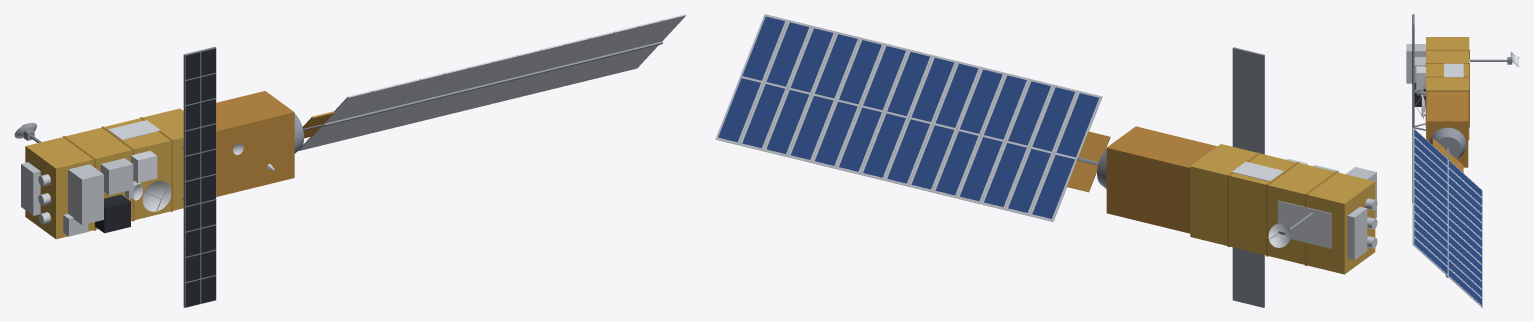
File: envisat.glb
3 views of the same model, side by side, from view 1: azimuth 30°, elevation 25°; view 2: azimuth 150°, elevation 25°; view 3: azimuth 270°, elevation 25° (orthographic). The views are drawn at different scales.
Parts seen in each view (by area): view 1: body, foil; view 2: solar-panel, foil, body; view 3: solar-panel, body, foil.
Part boxes in pixels (bbox=[...]): body: bbox=[14, 14, 686, 307]; foil: bbox=[21, 91, 334, 239]; solar-panel: bbox=[718, 16, 1099, 218]; foil: bbox=[1066, 126, 1375, 274]; body: bbox=[715, 14, 1377, 307]; solar-panel: bbox=[1414, 129, 1481, 305]; body: bbox=[1406, 14, 1519, 307]; foil: bbox=[1426, 37, 1469, 172].
Size of the model in its own units: 26 by 10 by 5.74.
